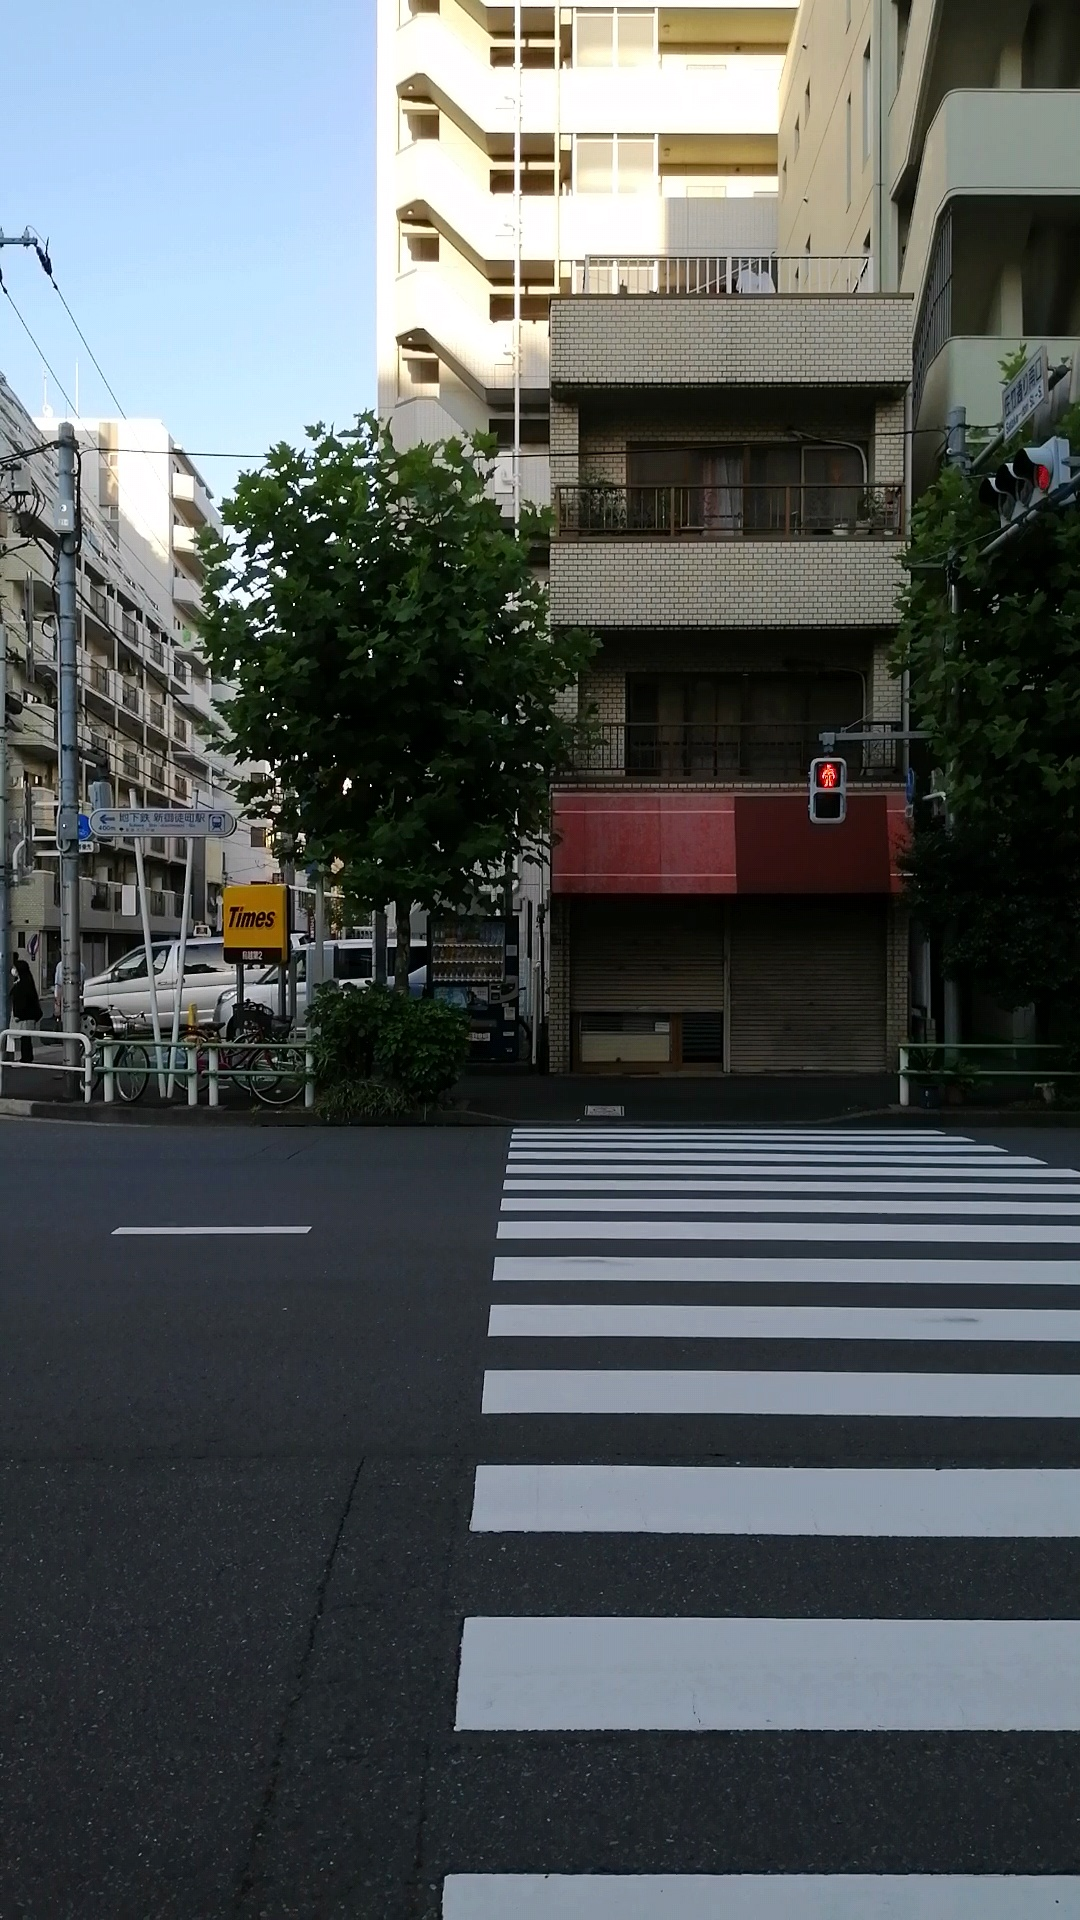red: (808, 756, 847, 825)
